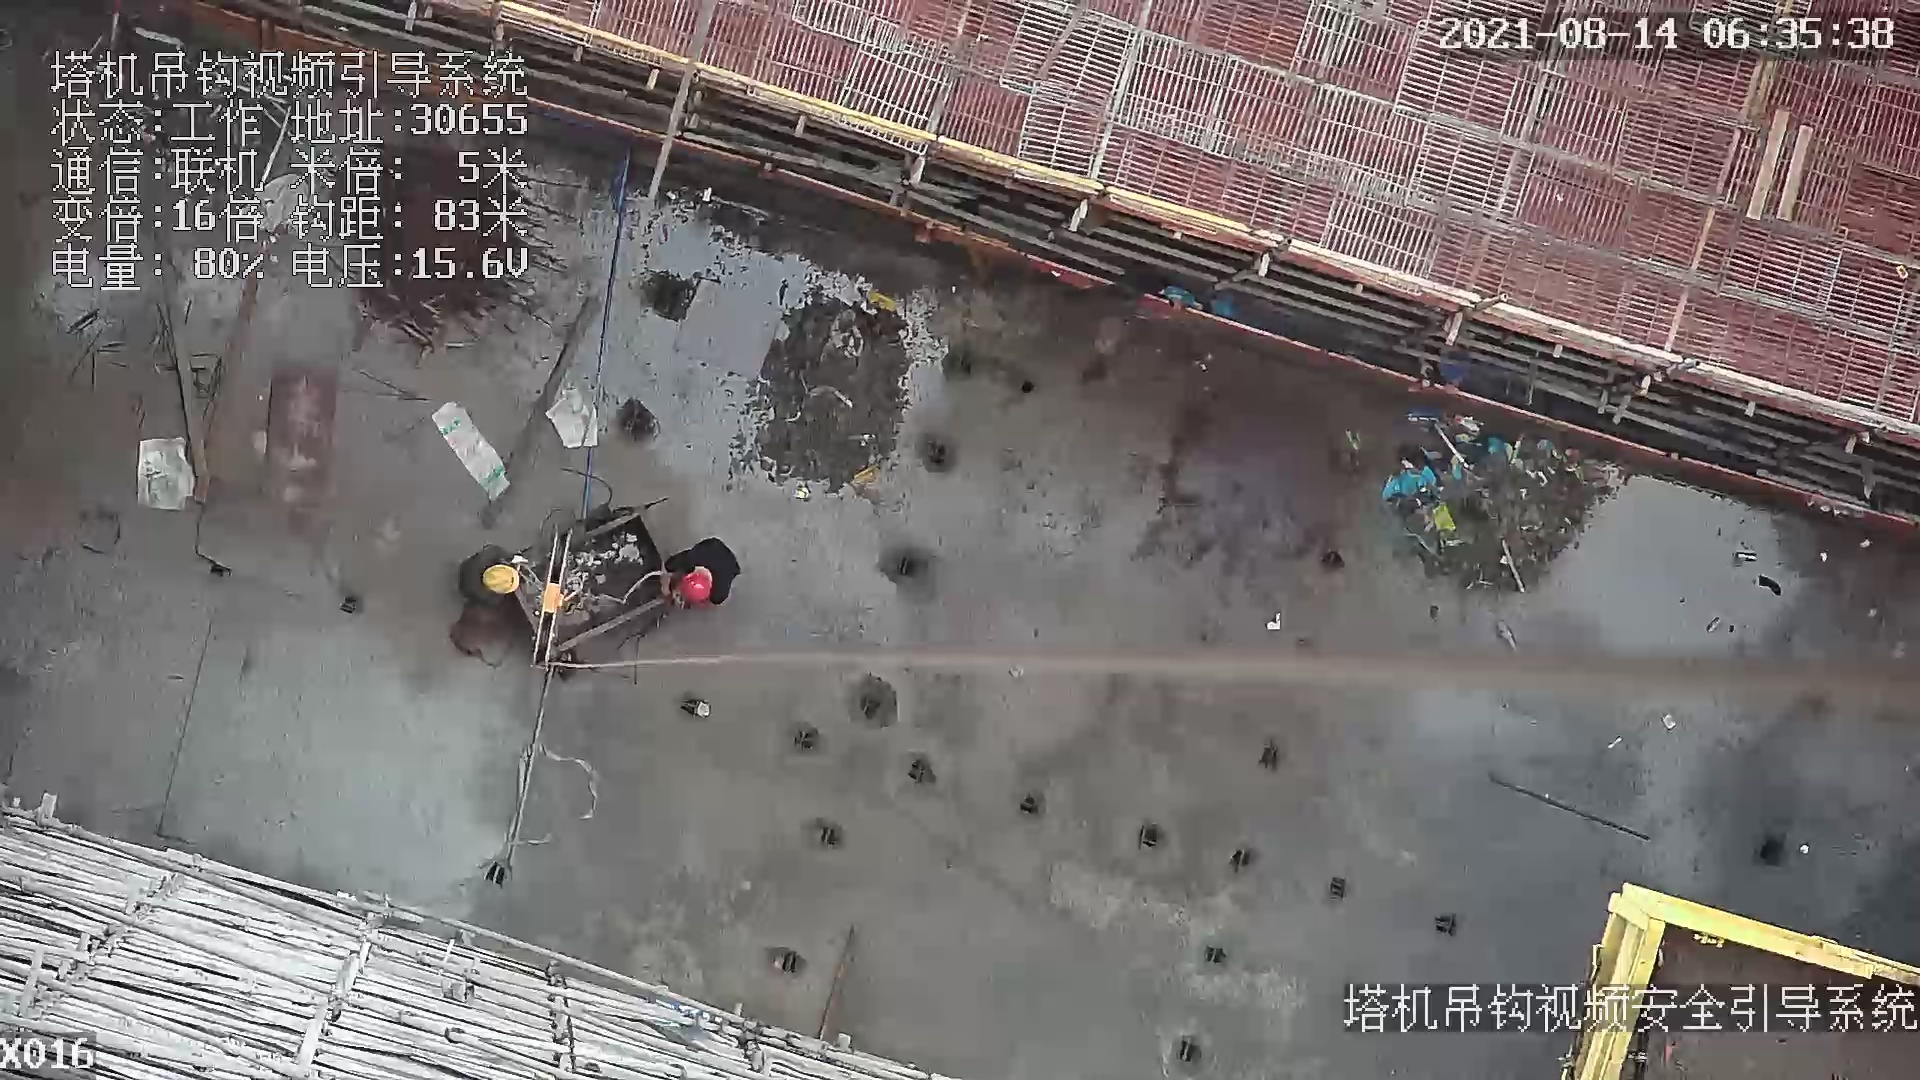helmet: (674, 562, 719, 610), (477, 563, 524, 599)
hook: (532, 523, 574, 671)
hopper: (519, 469, 672, 683)
person: (663, 531, 744, 612), (459, 540, 533, 619)
